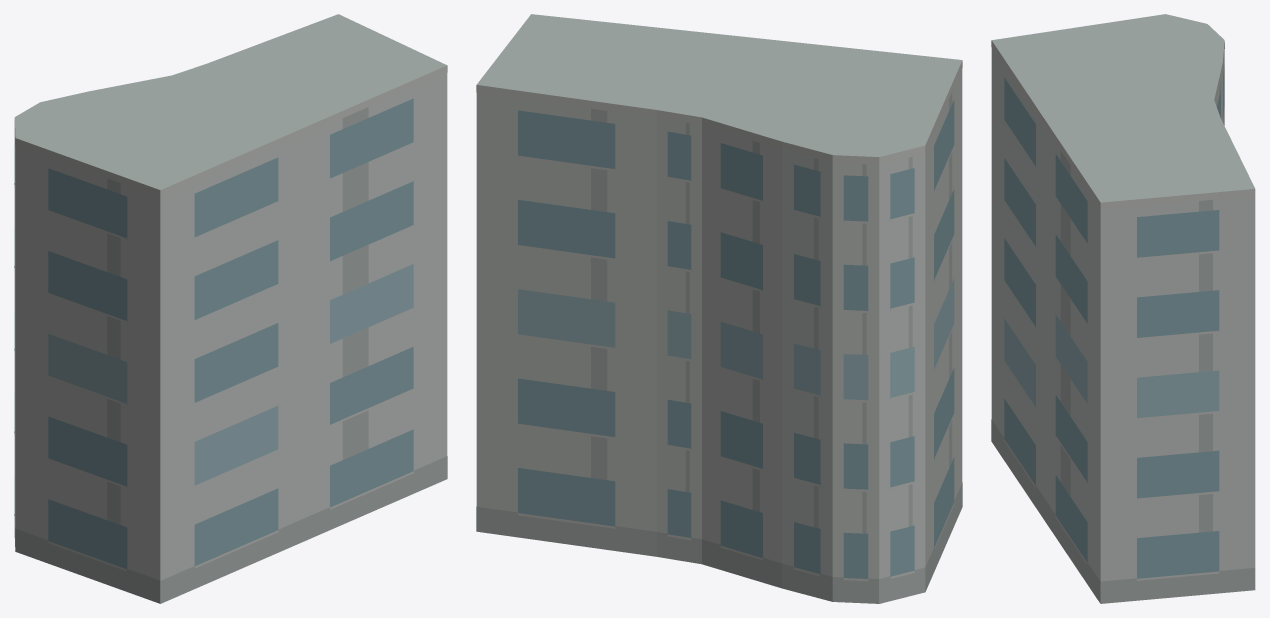
Rendered from survey-upis-32733927.glb.
3 renders of one model, left to right at view 1: azimuth 30°, elevation 25°; view 2: azimuth 150°, elevation 25°; view 3: azimuth 270°, elevation 25°, orthographic. The views are drawn at different scales.
Visible parts, largest first — view 1: survey-upis-32733927.tmp; view 2: survey-upis-32733927.tmp; view 3: survey-upis-32733927.tmp.
Boxes of the visible parts, x1,y1,x2,y2 form: survey-upis-32733927.tmp: (14,14,447,603); survey-upis-32733927.tmp: (476,14,962,603); survey-upis-32733927.tmp: (991,14,1255,603).
Bounding box in the file's own units: 13.82 × 13.7 × 8.17.
